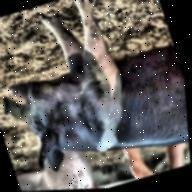boar: (0, 0, 192, 190)
